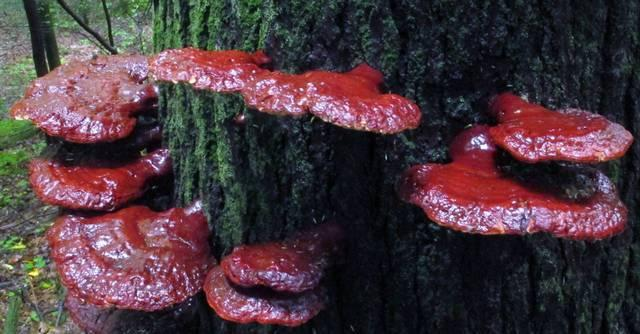Non-edible Mushroom: (11, 35, 418, 322), (395, 90, 634, 241)
